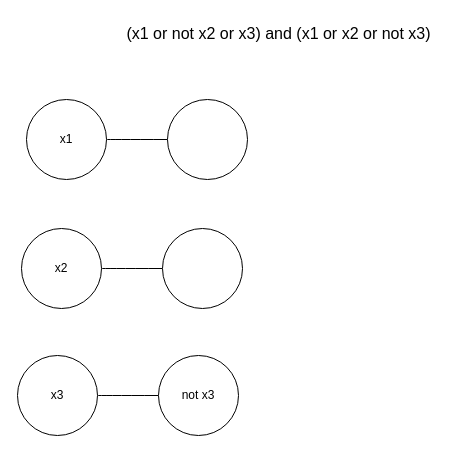
Some shapes in this 457 by 453 pixel diagram are drawn without their labels. Here are the shapes that lost their labels. From the top down, the centre of each, then its label:
At point 207,139: "not x1".
At point 202,268: "not x2".
